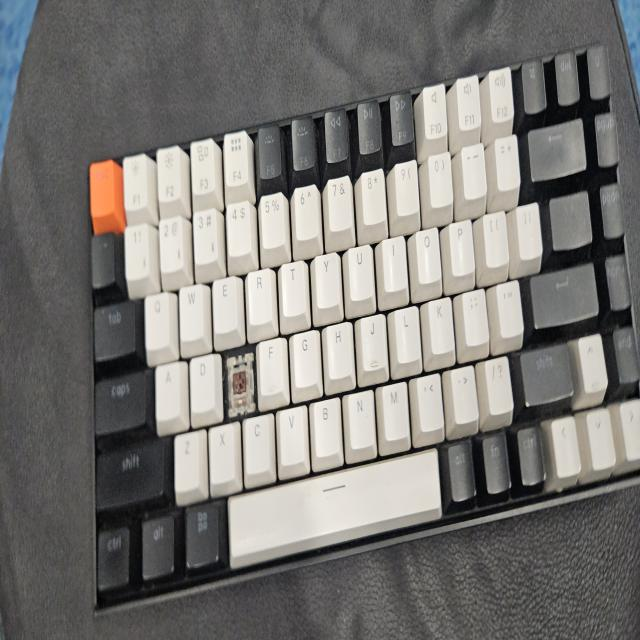C: (229, 360, 247, 412)
